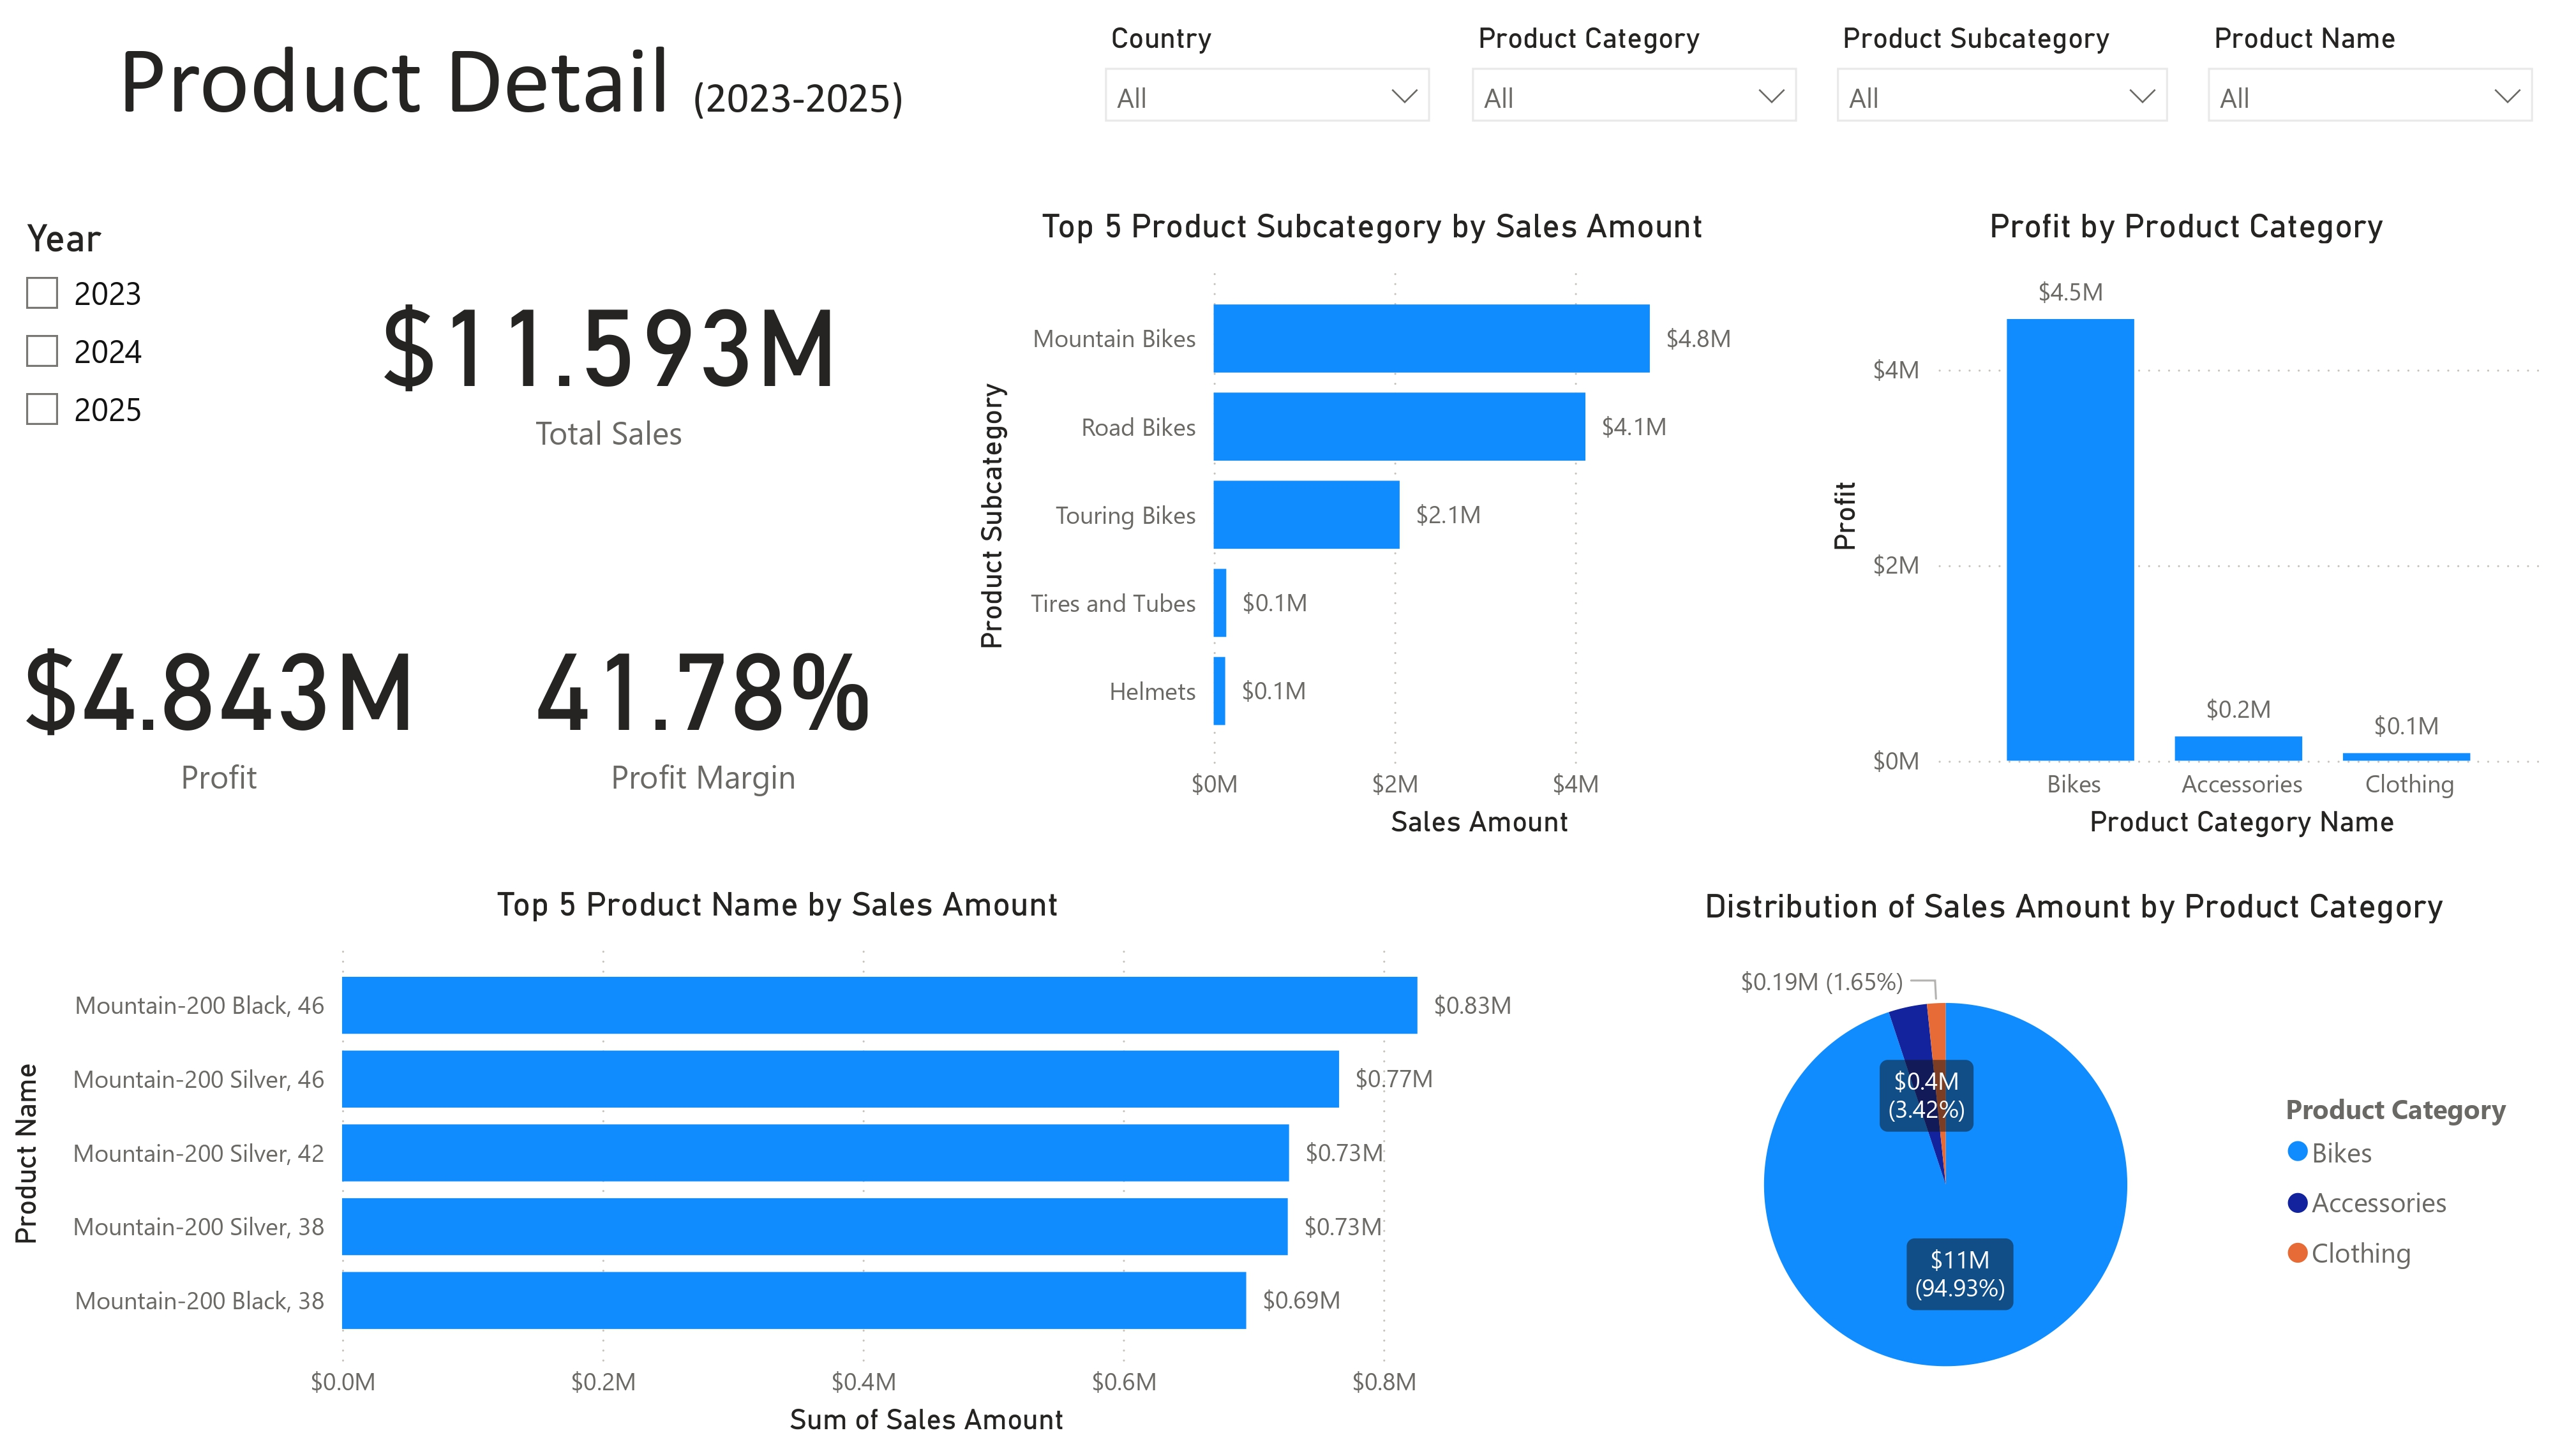

This screenshot's page, from the dashboard's own definition file:
{"tool":"powerbi","page":{"name":"Product Detail","canvas":[1280,720],"ordinal":2},"visuals":[{"type":"textbox","box":[0,0,512.2,82],"z":0},{"type":"textbox","box":[532.7,0,747.8,82],"z":1000},{"type":"slicer","fields":{"Values":["DIM_Date.Year"]},"box":[0,98,127.3,150.7],"z":2000},{"type":"card","fields":{"Values":["Sum(FACT_InternetSales.Sales Amount)"]},"box":[144.9,98,320.5,150.7],"z":3000},{"type":"card","fields":{"Values":["FACT_InternetSales.Profit"]},"box":[0,270.7,219.5,149.3],"z":4000},{"type":"card","fields":{"Values":["FACT_InternetSales.Profit Margin"]},"box":[240,270.7,225.4,149.3],"z":5000},{"type":"slicer","fields":{"Values":["DIM_Product.Product Category Name"]},"box":[728.3,1.5,182.9,80.5],"z":6000},{"type":"slicer","fields":{"Values":["DIM_Customer&Geography.Country"]},"box":[543.9,1.5,182.9,80.5],"z":7000},{"type":"slicer","fields":{"Values":["DIM_Product.Product Subcategory Name"]},"box":[911.2,1.5,185.9,80.5],"z":8000},{"type":"slicer","fields":{"Values":["DIM_Product.Product Name"]},"box":[1097.1,1.5,182.9,80.5],"z":9000},{"type":"clusteredBarChart","title":"Top 5 Product Subcategory by Sales Amount","fields":{"Y":["Sum(FACT_InternetSales.Sales Amount)"],"Category":["DIM_Product.Product Subcategory Name"]},"box":[484.4,98,408.3,322],"z":10000},{"type":"pieChart","title":"Distribution of Sales Amount by Product Category ","fields":{"Category":["DIM_Product.Product Category Name"],"Y":["Sum(FACT_InternetSales.Sales Amount)"]},"box":[800.5,439,480,281],"z":11000},{"type":"clusteredColumnChart","title":"Profit by Product Category ","fields":{"Y":["FACT_InternetSales.Profit"],"Category":["DIM_Product.Product Category Name"]},"box":[911.7,98,368.8,322],"z":11001},{"type":"clusteredBarChart","title":"Top 5 Product Name by Sales Amount","fields":{"Y":["Sum(FACT_InternetSales.Sales Amount)"],"Category":["DIM_Product.Product Name"]},"box":[0,438.4,780,281.7],"z":11002}]}

Visuals, with their boxes in screenshot pixels (x1, y1, x2, y2), scaled from the page's 1280x720 canvas onto the 2553x1456 screenshot:
textbox: x1=0, y1=0, x2=1022, y2=166
textbox: x1=1063, y1=0, x2=2552, y2=166
slicer - DIM_Date.Year: x1=0, y1=198, x2=254, y2=503
card - Sum(FACT_InternetSales.Sales Amount): x1=289, y1=198, x2=928, y2=503
card - FACT_InternetSales.Profit: x1=0, y1=547, x2=438, y2=849
card - FACT_InternetSales.Profit Margin: x1=479, y1=547, x2=928, y2=849
slicer - DIM_Product.Product Category Name: x1=1453, y1=3, x2=1818, y2=166
slicer - DIM_Customer&Geography.Country: x1=1085, y1=3, x2=1449, y2=166
slicer - DIM_Product.Product Subcategory Name: x1=1818, y1=3, x2=2188, y2=166
slicer - DIM_Product.Product Name: x1=2188, y1=3, x2=2552, y2=166
"Top 5 Product Subcategory by Sales Amount" clusteredBarChart: x1=966, y1=198, x2=1781, y2=849
"Distribution of Sales Amount by Product Category " pieChart: x1=1597, y1=888, x2=2552, y2=1455
"Profit by Product Category " clusteredColumnChart: x1=1818, y1=198, x2=2552, y2=849
"Top 5 Product Name by Sales Amount" clusteredBarChart: x1=0, y1=886, x2=1556, y2=1455
